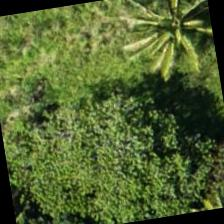Kelapa_Sawit: (123, 0, 219, 89)
